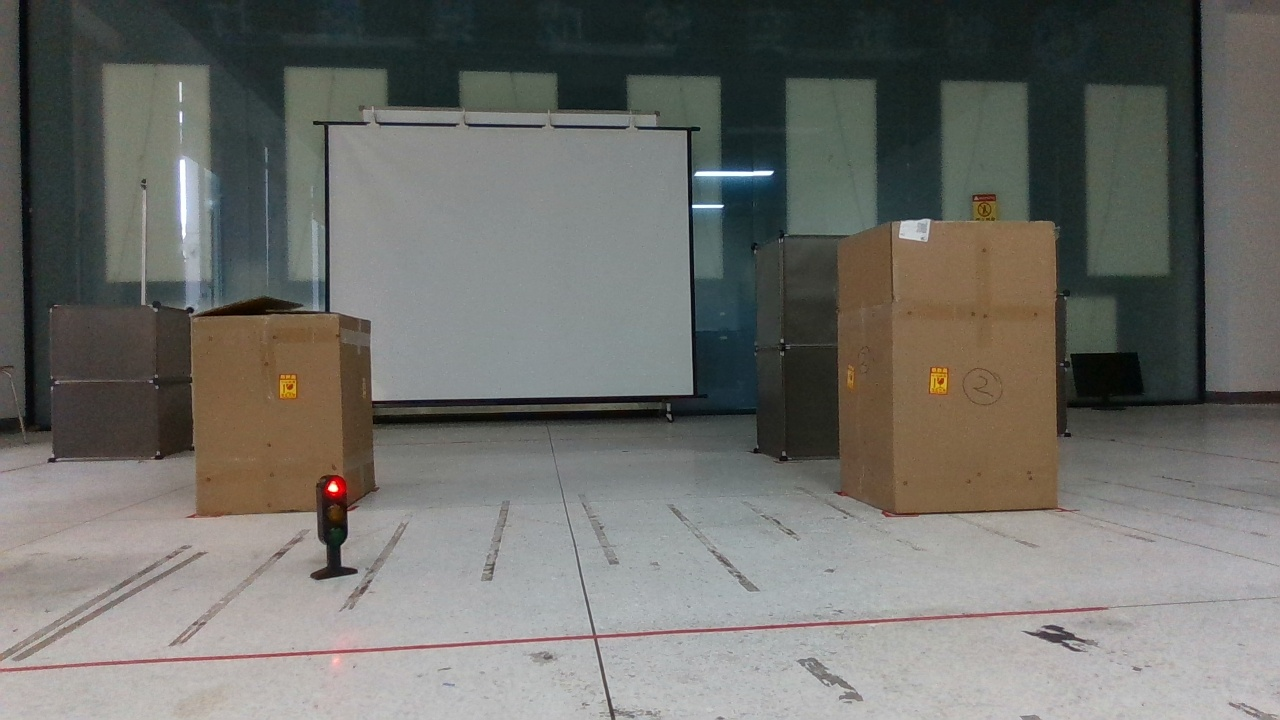red_light: (302, 466, 374, 591)
